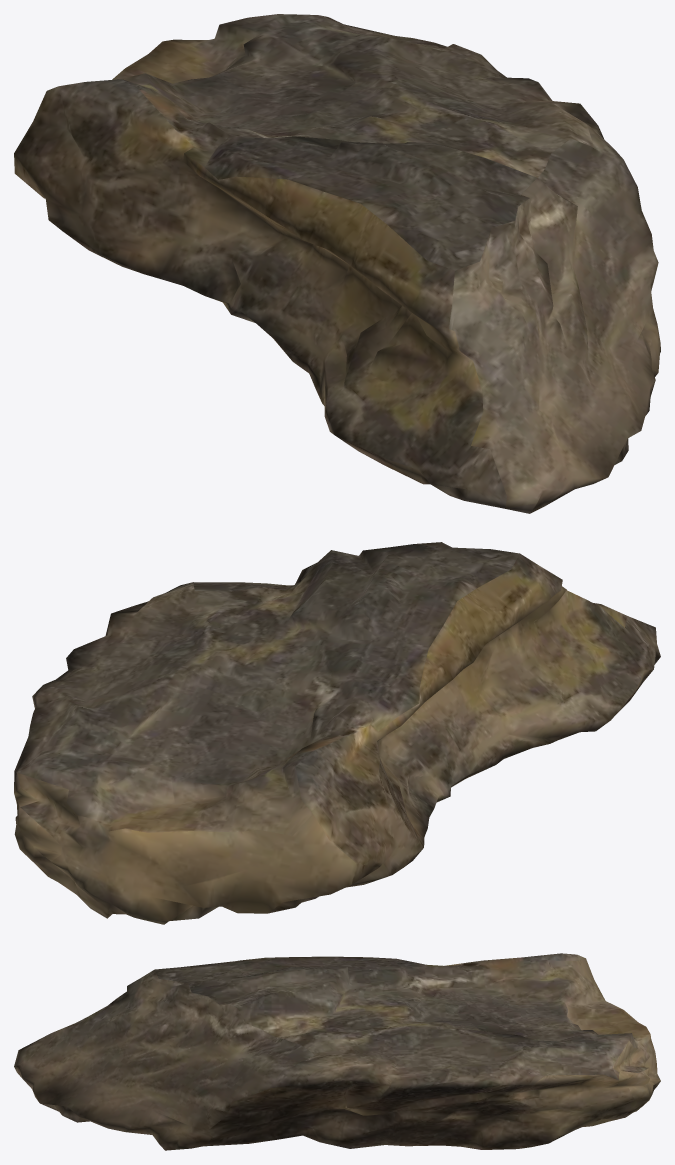
The model's file is rock_09.glb.
The picture shows the model from 3 angles, top to bottom: view 1: azimuth 30°, elevation 25°; view 2: azimuth 150°, elevation 25°; view 3: azimuth 270°, elevation 25°; orthographic projection. The views are drawn at different scales.
Visible parts, largest first — view 1: rock_09_lod0; view 2: rock_09_lod0; view 3: rock_09_lod0.
Part boxes in pixels (x1,y1,x2,y2): rock_09_lod0: (14, 14, 660, 513); rock_09_lod0: (14, 542, 660, 924); rock_09_lod0: (14, 953, 660, 1150).
Size of what is drawn, in the model's own units: 0.0739 by 0.0326 by 0.1449.
Materials: 1 (1 with a texture image).
